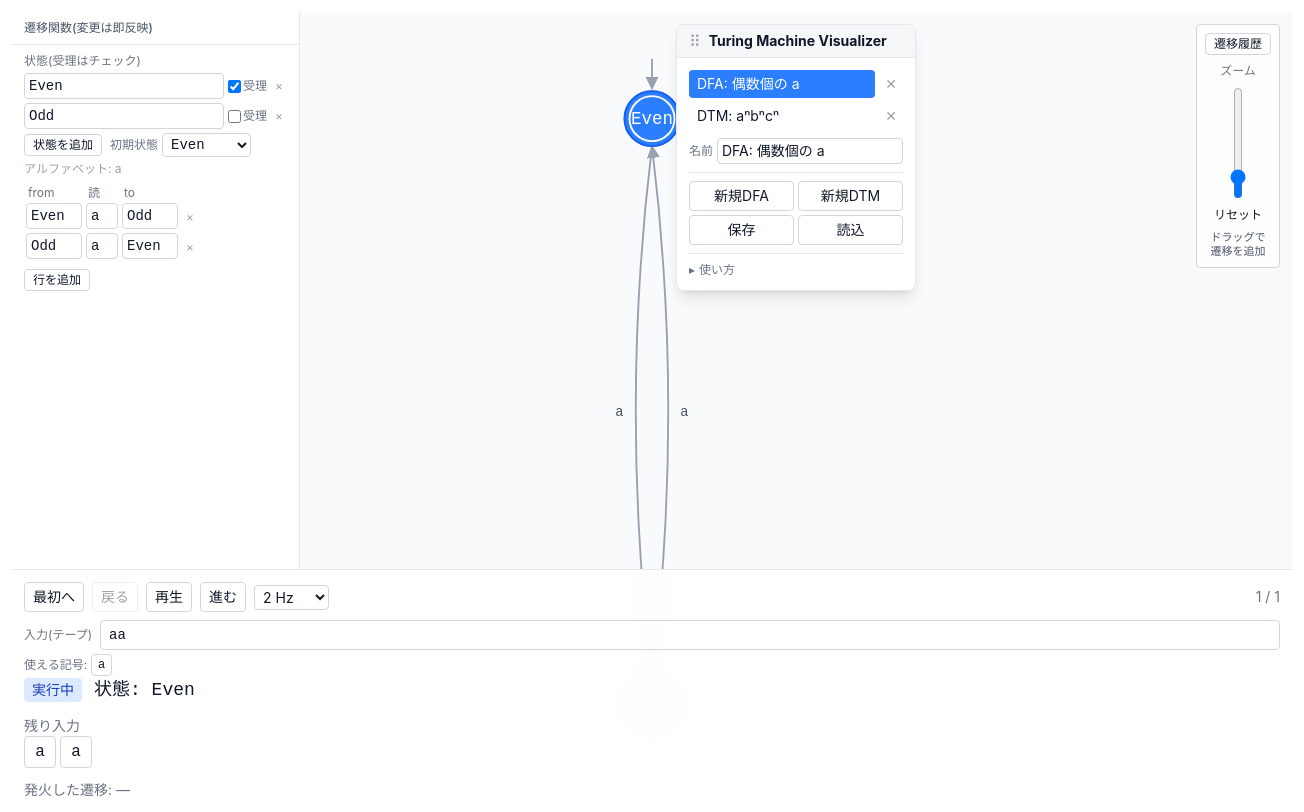
it: App(再生 UI) › 機械を削除でき、選択が隣へ追従し、最後の1台は削除ボタンが出ない
The width and height of the screenshot is (1304, 812).
Click the button "新規DFA". click: click(742, 196)
box: [689,181,794,211]
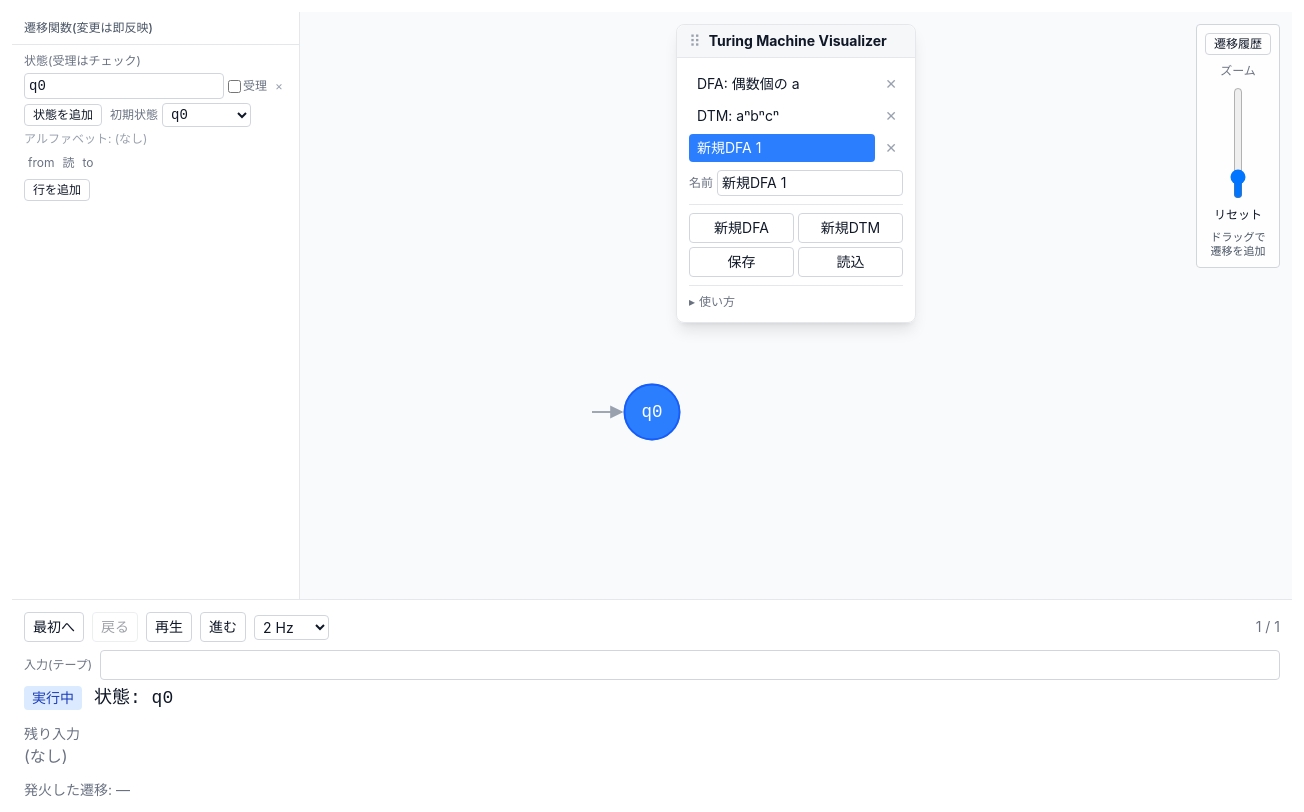
Now the button "新規DFA 1" is shown, box [689,134,875,162]
Click the button named "新規DFA 1 を削除". click: click(891, 148)
box: [879,134,903,162]
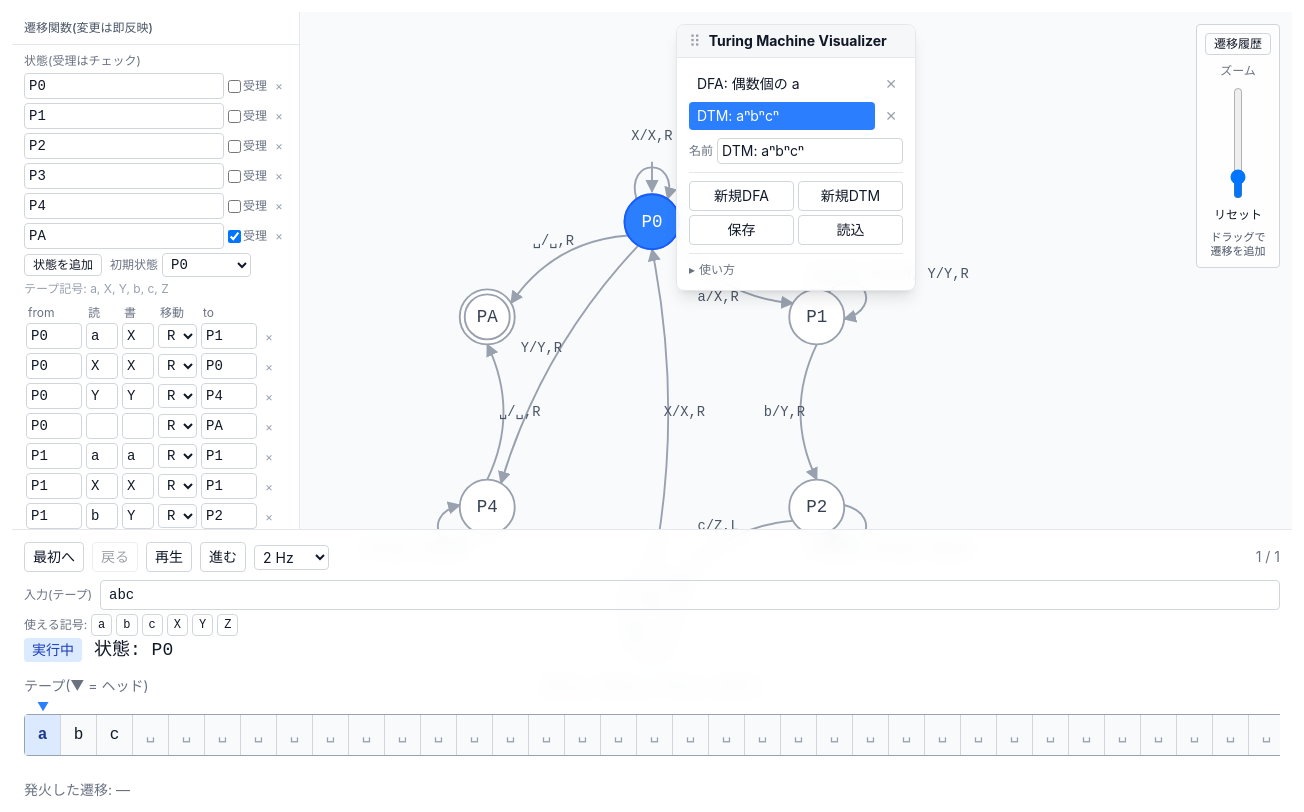
Now the button "新規DFA 1" is gone
Now the text "状態: P0" is shown, box [94,636,173,664]
Now the field labelled "入力(テープ)" holds "abc", box [100,580,1280,610]
Note: プリセット2台を1台まで減らすと、最後の削除ボタンは出ない。
Click the 1st button "✕". click: click(891, 84)
box: [879,70,903,98]
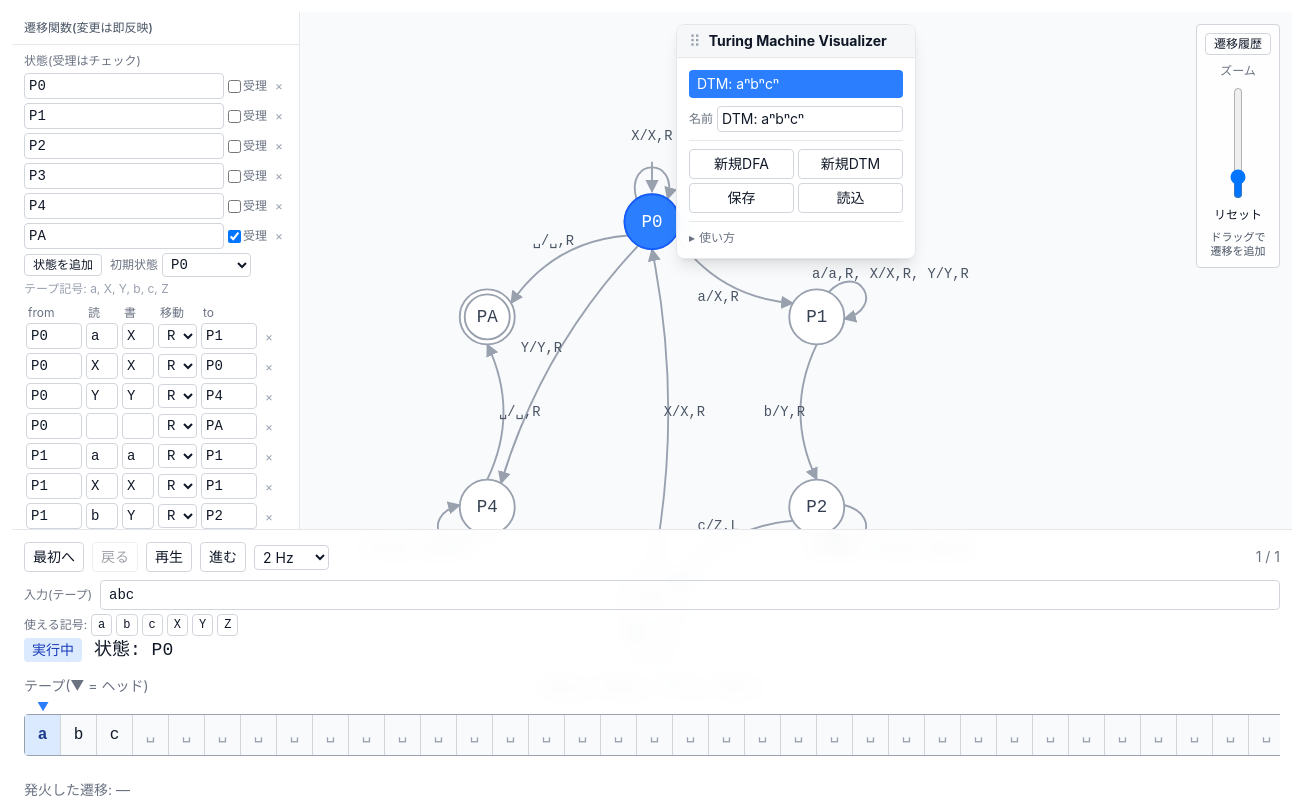
Now the button "DFA: 偶数個の a" is gone
